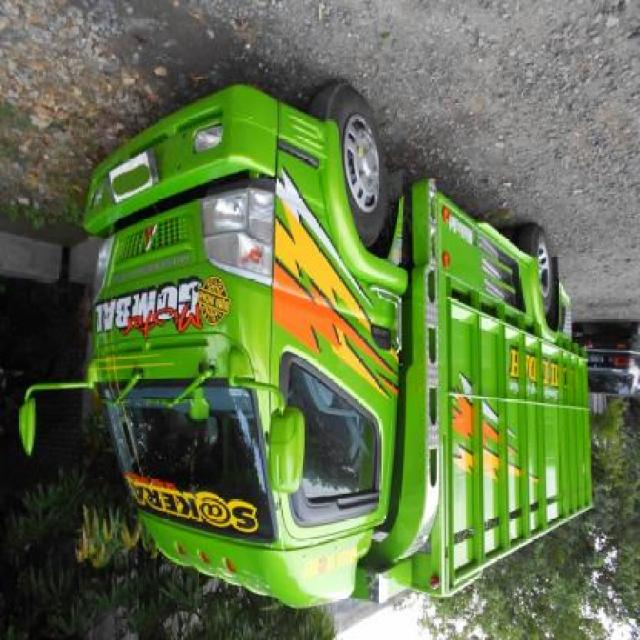truck: (22, 77, 596, 616)
